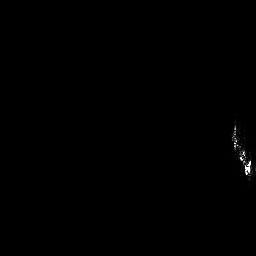ship: (232, 120, 254, 182)
